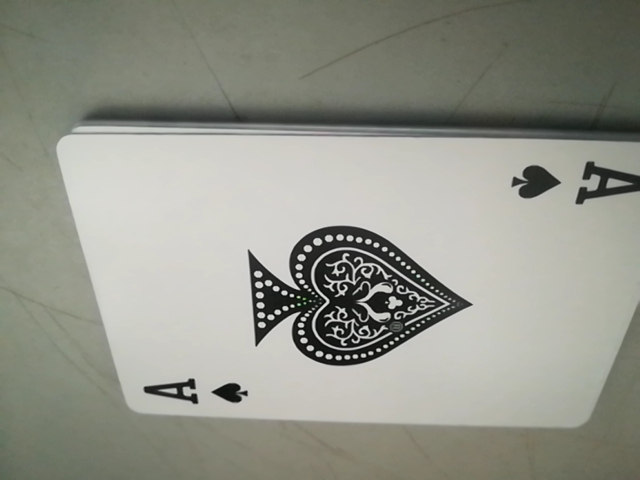ht a: (136, 373, 258, 410)
